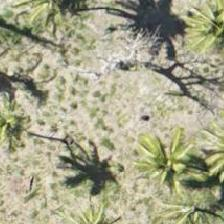coconut_tree: (121, 116, 211, 206), (0, 83, 58, 173), (143, 0, 223, 63)
